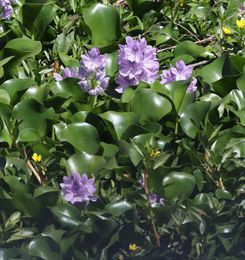water_hyacinth: (1, 0, 245, 198)
